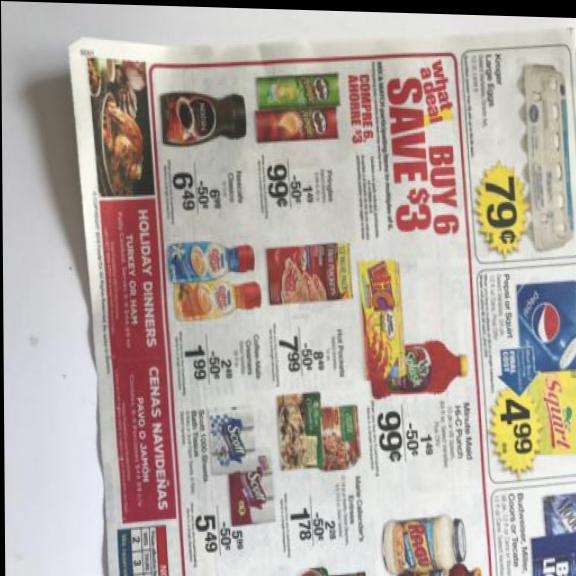Kertas: (66, 32, 576, 576)
